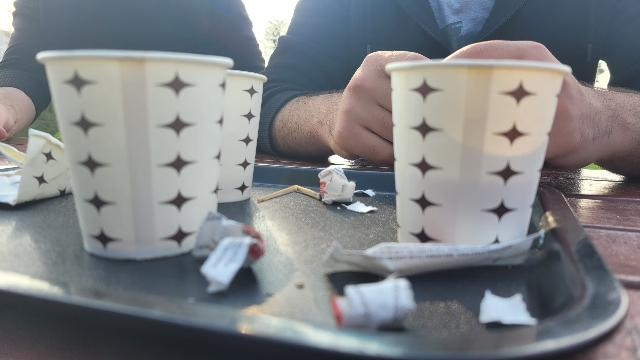Kagit: (31, 45, 234, 269), (379, 57, 578, 270), (317, 230, 555, 283), (219, 55, 275, 207), (191, 207, 275, 299), (0, 128, 89, 212), (324, 272, 422, 340), (317, 164, 358, 214)
